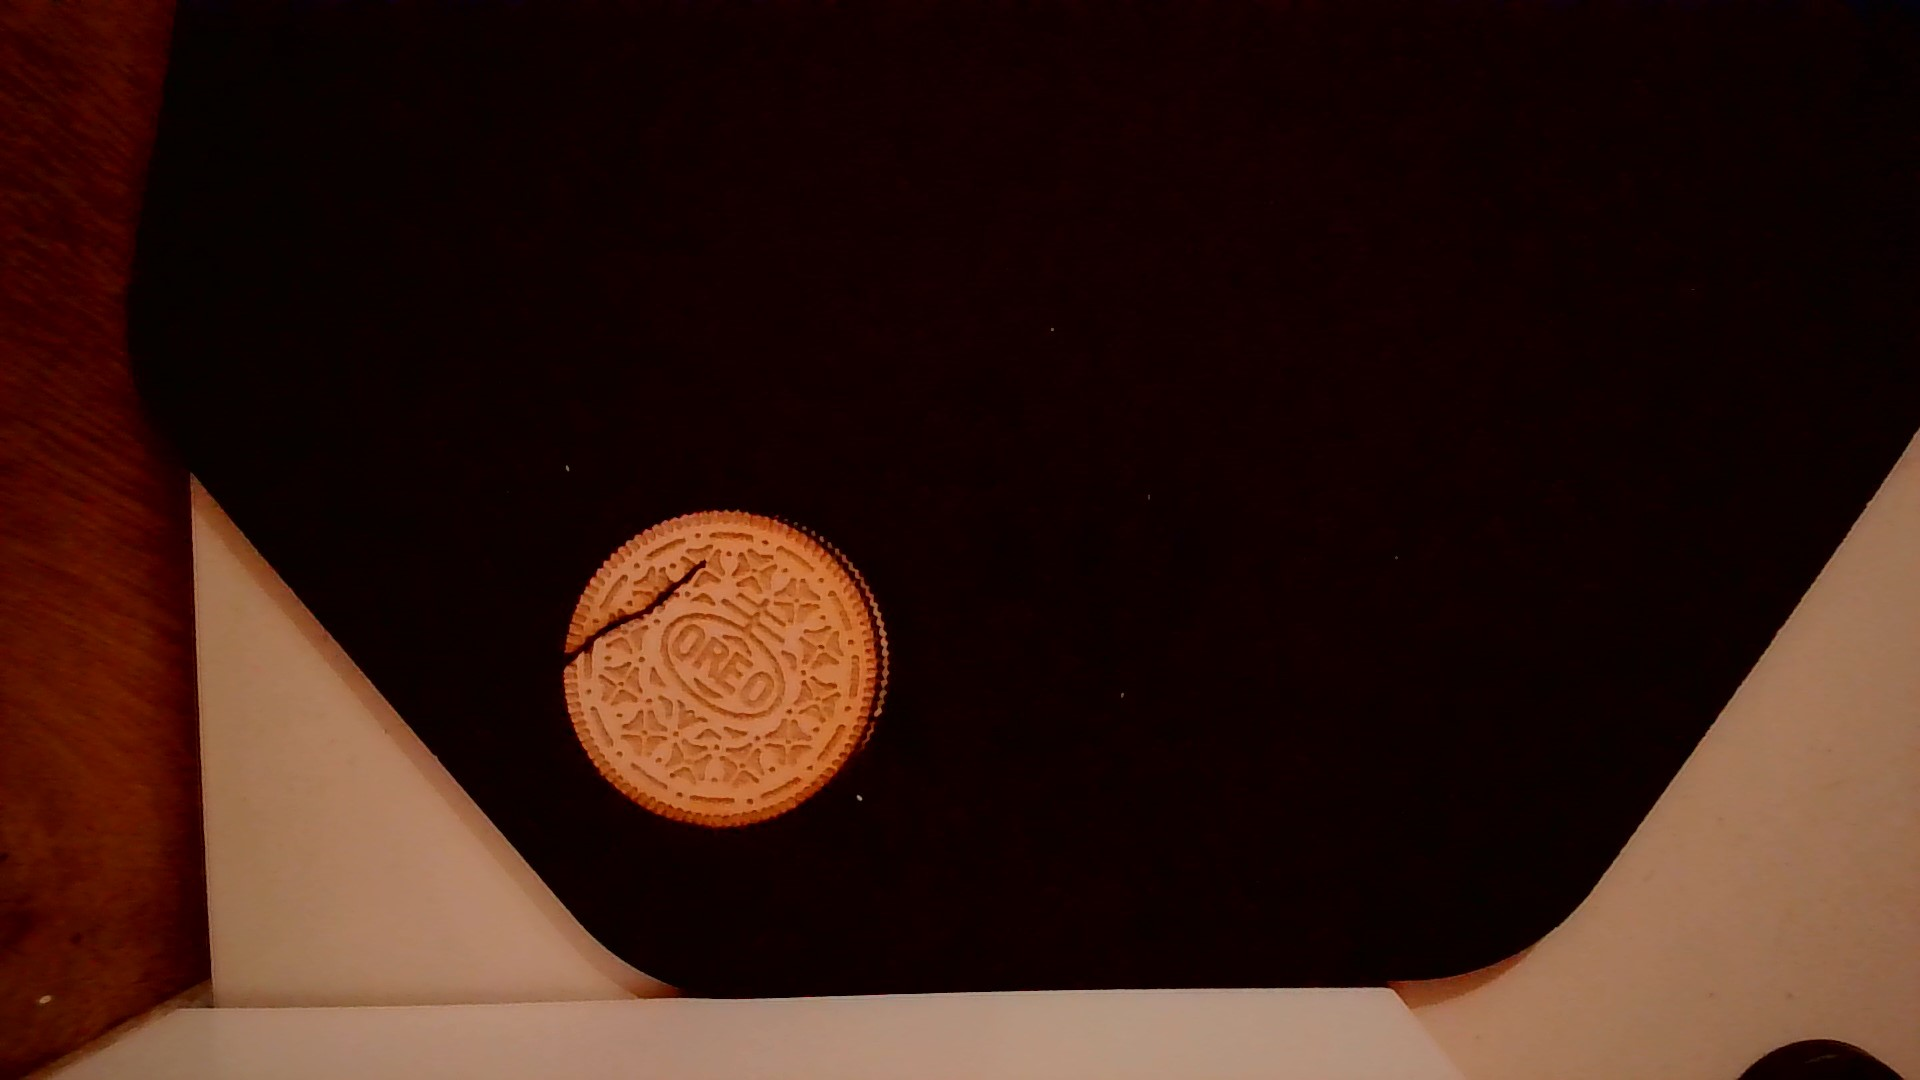Fissure: (553, 550, 716, 683)
Oréo: (553, 502, 899, 833)
